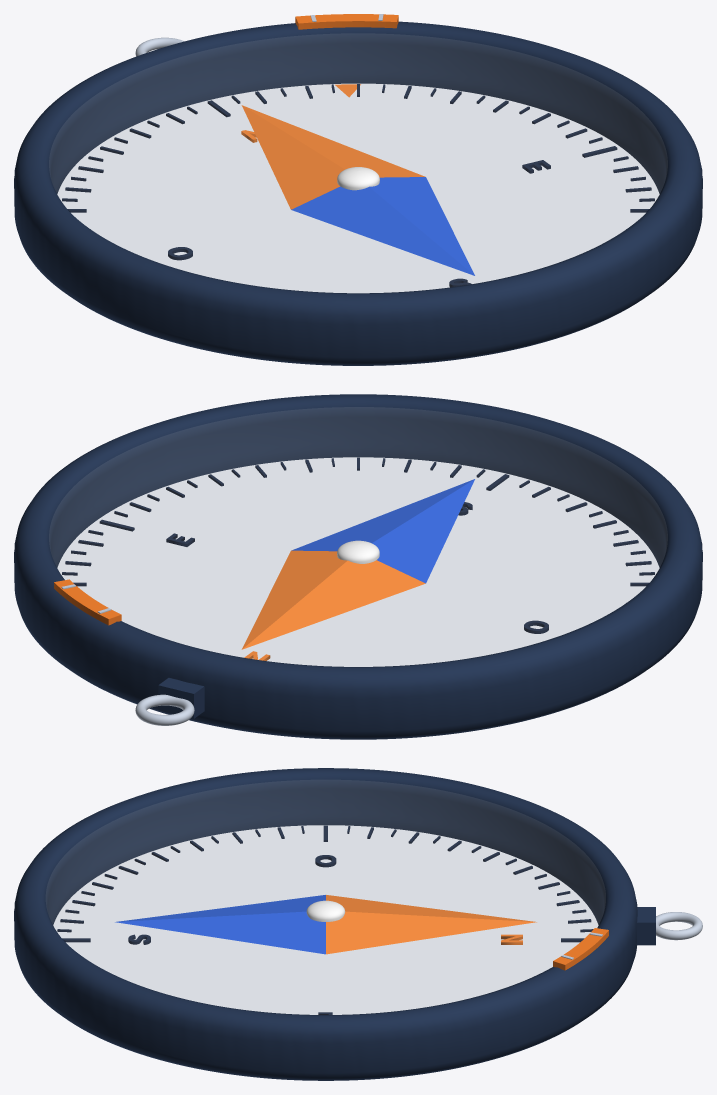
File: brujula.glb
3 views of the same model, one above another, from view 1: azimuth 30°, elevation 25°; view 2: azimuth 150°, elevation 25°; view 3: azimuth 270°, elevation 25° (orthographic). The views are drawn at different scales.
Visible parts, largest first — view 1: carcasa, esfera, aguja_sur, aguja_norte, marcas, cursor_esmalte, tapa, letras; view 2: carcasa, esfera, aguja_norte, aguja_sur, marcas, anilla, orejeta, cursor_esmalte, tapa, letras; view 3: carcasa, esfera, aguja_sur, aguja_norte, marcas, anilla, cursor_esmalte, orejeta, letras, tapa.
Boxes of the visible parts, x1=… form: carcasa: x1=14, y1=21, x2=702, y2=365; esfera: x1=57, y1=83, x2=659, y2=293; aguja_sur: x1=291, y1=177, x2=474, y2=275; aguja_norte: x1=241, y1=105, x2=425, y2=209; marcas: x1=62, y1=84, x2=654, y2=229; cursor_esmalte: x1=295, y1=14, x2=398, y2=29; tapa: x1=337, y1=167, x2=379, y2=190; letras: x1=168, y1=130, x2=550, y2=287; carcasa: x1=14, y1=394, x2=702, y2=739; esfera: x1=57, y1=457, x2=659, y2=666; aguja_norte: x1=241, y1=550, x2=425, y2=649; aguja_sur: x1=291, y1=479, x2=474, y2=583; marcas: x1=62, y1=457, x2=654, y2=586; anilla: x1=135, y1=694, x2=194, y2=725; orejeta: x1=158, y1=678, x2=204, y2=718; cursor_esmalte: x1=54, y1=579, x2=121, y2=625; tapa: x1=337, y1=540, x2=379, y2=563; letras: x1=166, y1=502, x2=548, y2=660; carcasa: x1=14, y1=768, x2=637, y2=1080; esfera: x1=53, y1=825, x2=598, y2=1014; aguja_sur: x1=115, y1=895, x2=325, y2=954; aguja_norte: x1=326, y1=895, x2=536, y2=954; marcas: x1=57, y1=825, x2=593, y2=942; anilla: x1=656, y1=912, x2=702, y2=940; cursor_esmalte: x1=553, y1=928, x2=608, y2=970; orejeta: x1=636, y1=907, x2=655, y2=945; letras: x1=128, y1=855, x2=522, y2=1014; tapa: x1=306, y1=900, x2=345, y2=921.
Bounding box in the file's own units: 2 × 0.235 × 2.21.
